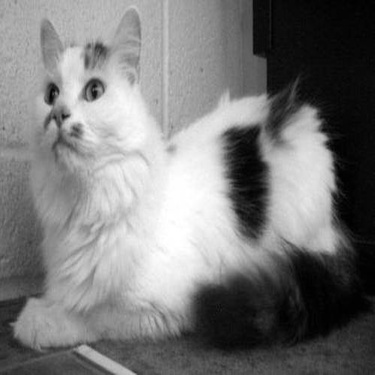cat: (2, 10, 362, 352)
